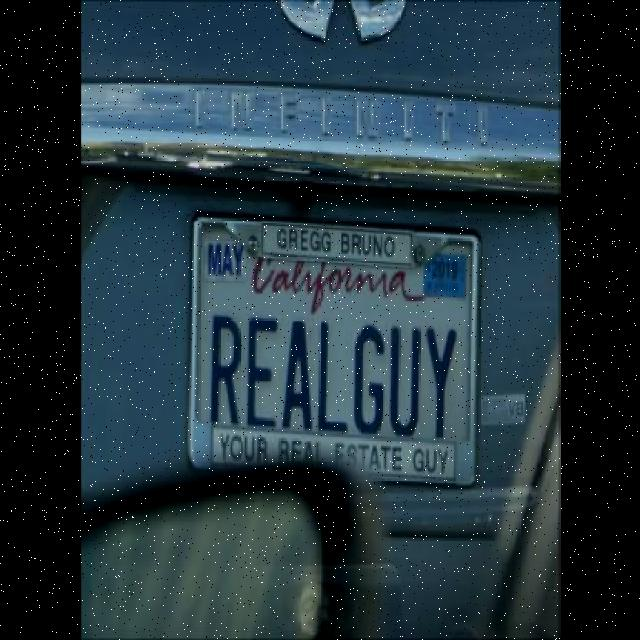licenseplate: (192, 217, 482, 483)
